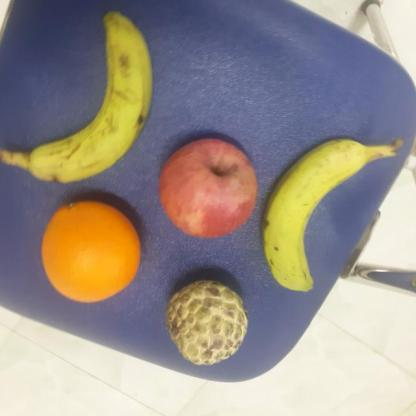annona: (164, 278, 251, 367)
apple: (159, 136, 261, 239)
banana: (30, 10, 155, 190), (261, 136, 378, 293)
orange: (39, 200, 140, 301)
